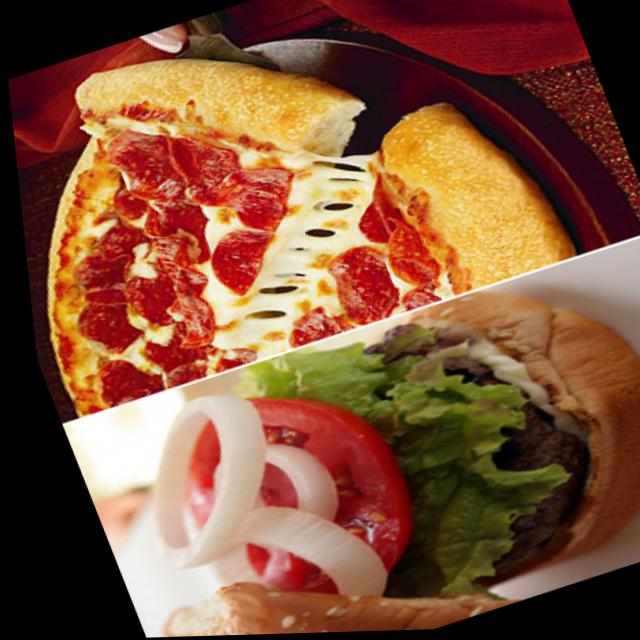burger: (47, 254, 640, 639)
pizza: (0, 0, 583, 418)
